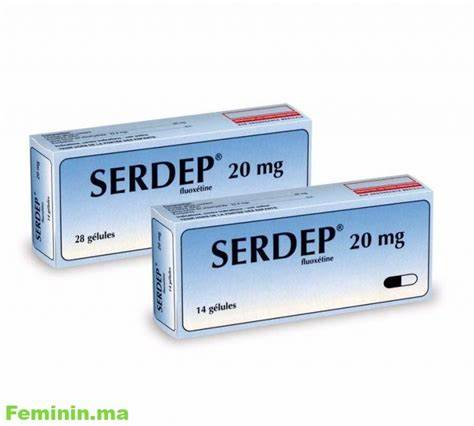Medicine: (151, 176, 441, 339), (28, 106, 312, 194), (17, 131, 152, 269)
